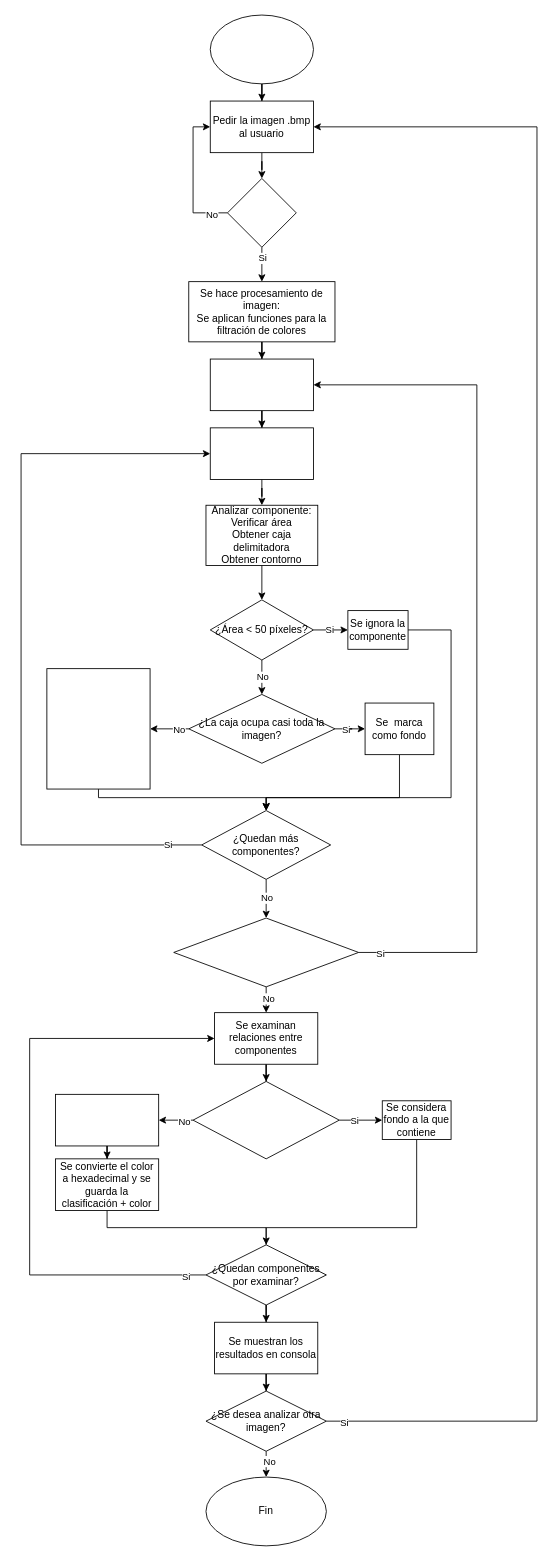
Some shapes in this 559 by 1561 pixel diagram are drawn without their labels. The shapes that lost their labels are listed below. From the top down, each one's box as (x1, y1, x2, y2) in pixels, then its label:
(209, 14, 313, 84): Inicio
(227, 178, 296, 247): ¿Es válida?
(209, 358, 313, 411): Se selecciona un color y crean máscaras para este
(209, 427, 313, 479): Se encuentran componentes conexas
(46, 668, 150, 789): Se marca como figura: Se obtiene contorno y se guarda: color + caja + contorno
(173, 917, 359, 987): ¿Quedan más colores por analizar?
(55, 1093, 159, 1146): Se clasifica mediante su contorno como: C/T/O/X
(192, 1081, 339, 1159): ¿Una componente contiene completamente a otra?
